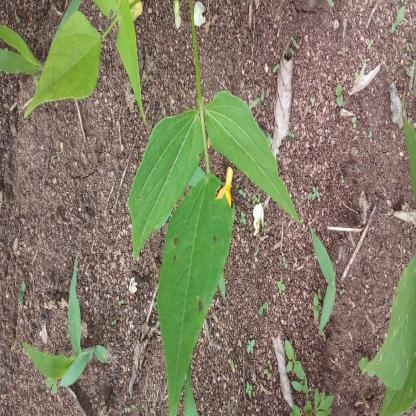Beans_Angular_LeafSpot: (344, 102, 416, 160)
